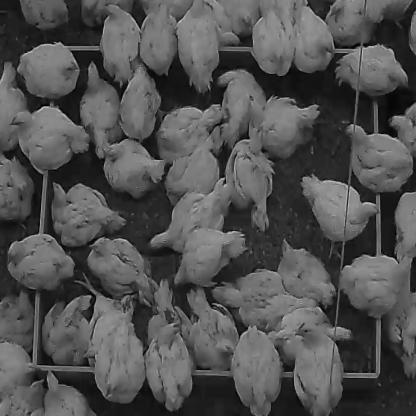chicken: (302, 174, 379, 258), (149, 177, 234, 253), (213, 269, 320, 328), (10, 105, 90, 173), (77, 270, 133, 366), (269, 306, 353, 366), (86, 235, 158, 305), (51, 181, 126, 247), (340, 255, 414, 319), (225, 137, 274, 232), (294, 322, 344, 415), (231, 324, 282, 415), (95, 308, 144, 402), (346, 124, 413, 192), (146, 278, 196, 368), (145, 318, 192, 411), (186, 287, 238, 371), (276, 238, 336, 309), (80, 60, 123, 159), (173, 229, 247, 286), (257, 94, 320, 160), (177, 0, 220, 93), (216, 69, 266, 148), (7, 232, 75, 290), (336, 42, 408, 96), (157, 103, 224, 160), (103, 138, 165, 198), (42, 293, 93, 365), (18, 40, 80, 98), (101, 3, 142, 87), (166, 148, 221, 208), (253, 0, 296, 76), (120, 64, 162, 140), (294, 0, 335, 74), (140, 0, 177, 76), (325, 0, 384, 45), (1, 60, 29, 152), (387, 290, 415, 378), (0, 152, 35, 221), (45, 370, 97, 416), (1, 288, 36, 350), (197, 0, 242, 45), (0, 340, 35, 388), (1, 376, 44, 415), (220, 0, 261, 38), (388, 102, 416, 154), (395, 189, 415, 261), (20, 0, 68, 30), (81, 0, 134, 27), (372, 0, 416, 29), (143, 0, 194, 20), (407, 5, 415, 56)
